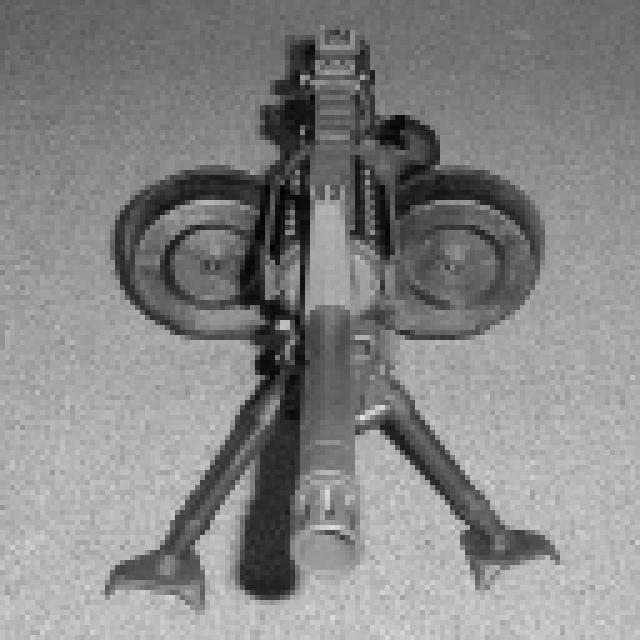Rifle: (52, 5, 580, 640)
